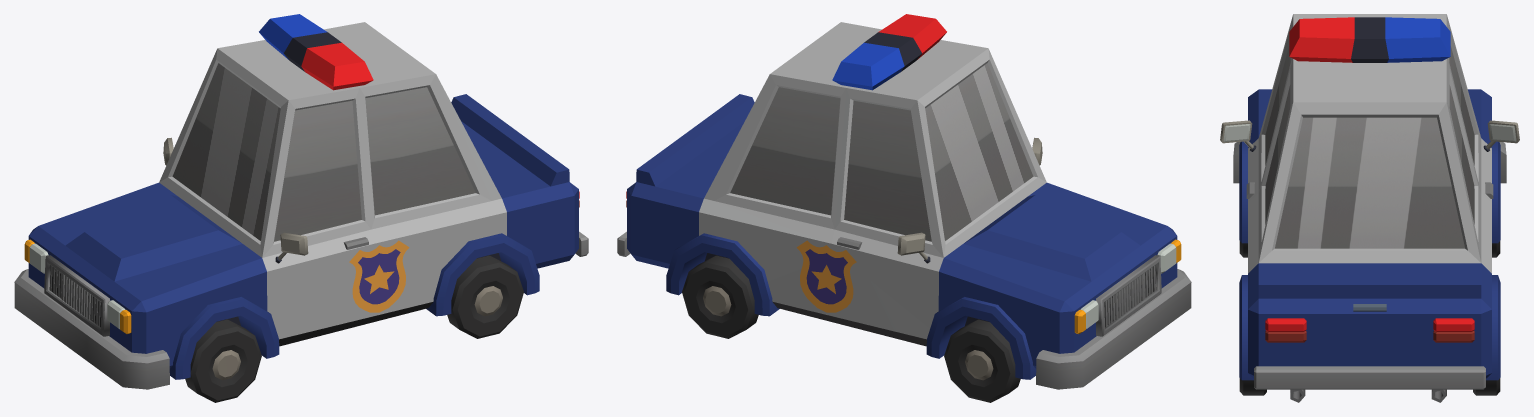
File: Car_Police_1_B_2.gltf
3 renders of one model, left to right at view 1: azimuth 30°, elevation 25°; view 2: azimuth 150°, elevation 25°; view 3: azimuth 270°, elevation 25°, orthographic. The views are drawn at different scales.
Visible parts, largest first — view 1: Car_Police_1_B_2, RL, FL; view 2: Car_Police_1_B_2, RR, FR; view 3: Car_Police_1_B_2, RL, RR.
Part boxes in pixels (x1,y1,x2,y2): Car_Police_1_B_2: [14, 14, 588, 389]; RL: [447, 255, 523, 338]; FL: [185, 319, 261, 402]; Car_Police_1_B_2: [617, 14, 1191, 389]; RR: [682, 255, 758, 338]; FR: [944, 319, 1020, 402]; Car_Police_1_B_2: [1220, 14, 1519, 402]; RL: [1239, 378, 1266, 395]; RR: [1473, 378, 1500, 395].
Bounding box in the file's own units: 3.46 × 1.99 × 1.78.
3 materials, 3 textured.
